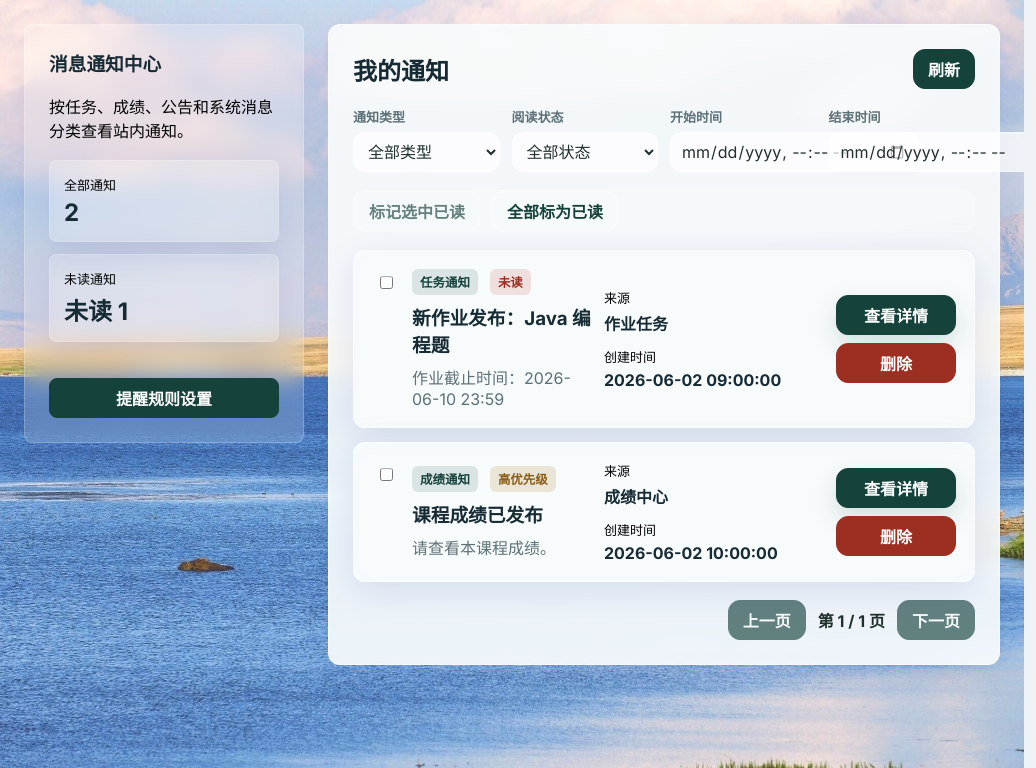
NotificationCenterView › marks all unread notifications as read from the bulk action
Click the button with test id "mark-all-read" at (555, 211), box [492,191,618,231]
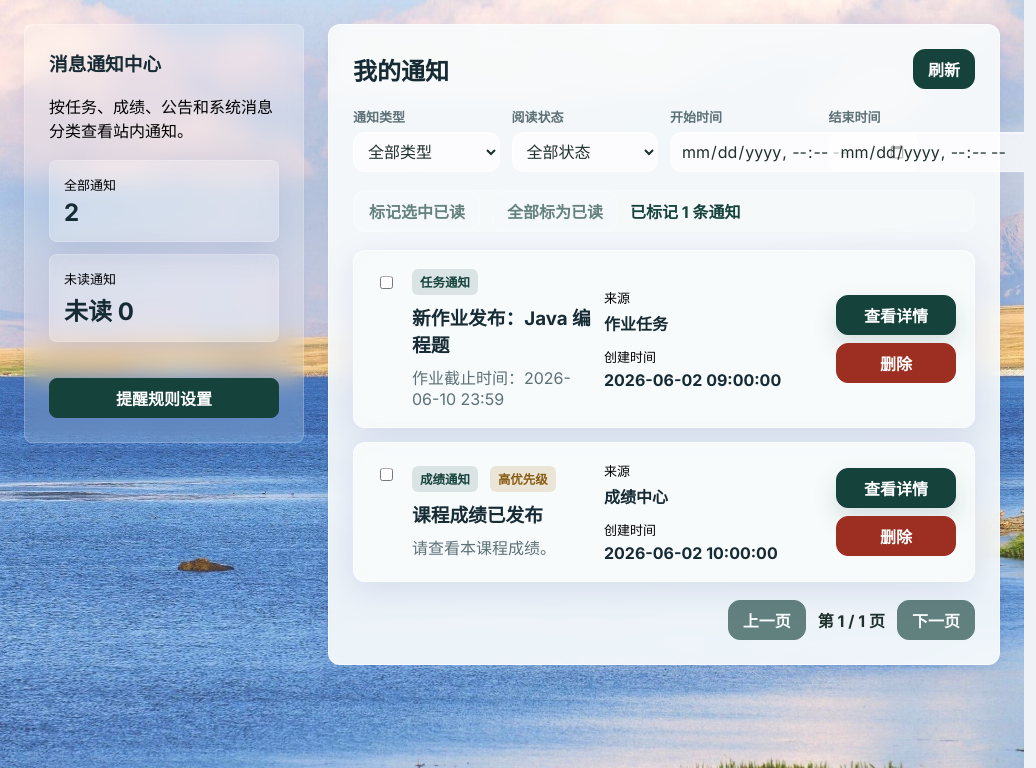
Now the text "未读 0" is shown, box [64,297,134,326]
Now the button with test id "mark-all-read" is disabled, box [492,191,618,231]
